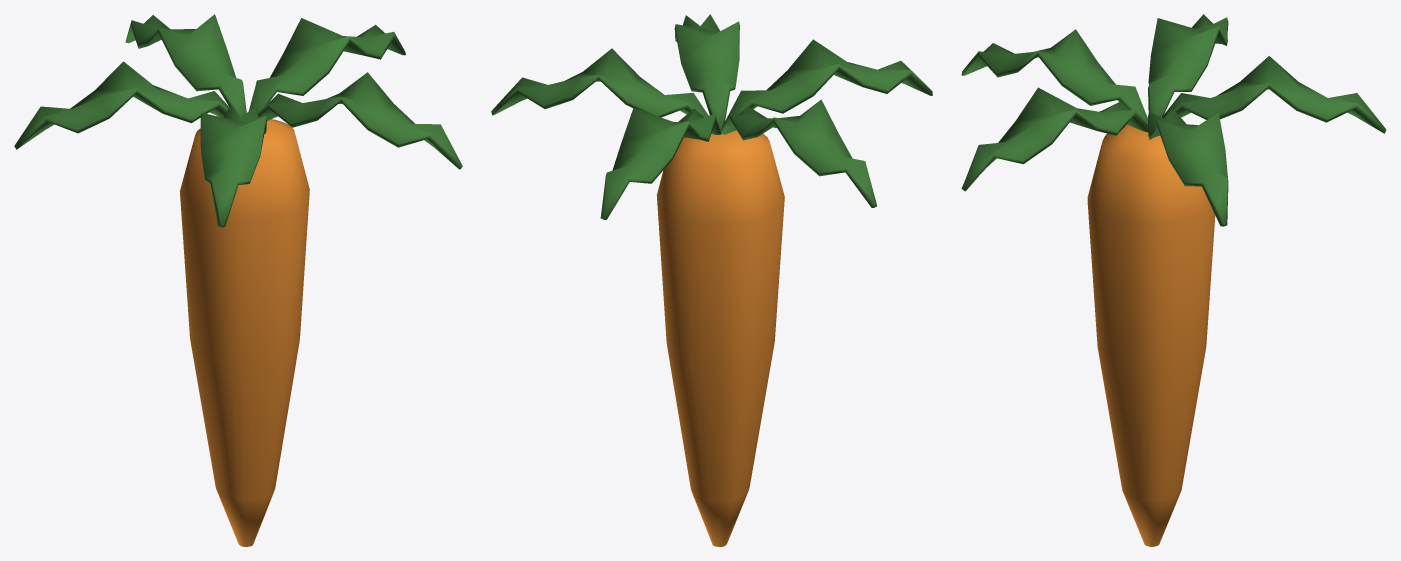
The model's file is carrot.glb.
The picture shows the model from 3 angles, left to right: view 1: azimuth 30°, elevation 25°; view 2: azimuth 150°, elevation 25°; view 3: azimuth 270°, elevation 25°; orthographic projection.
Visible parts, largest first — view 1: edible_carrot, edible_carrot_greens.001, edible_carrot_greens.003, edible_carrot_greens.004, edible_carrot_greens, edible_carrot_greens.002; view 2: edible_carrot, edible_carrot_greens.002, edible_carrot_greens, edible_carrot_greens.001, edible_carrot_greens.004, edible_carrot_greens.003; view 3: edible_carrot, edible_carrot_greens.003, edible_carrot_greens, edible_carrot_greens.002, edible_carrot_greens.004, edible_carrot_greens.001.
Part boxes in pixels (bbox=[...]): edible_carrot: bbox=[180, 119, 309, 546]; edible_carrot_greens.001: bbox=[14, 61, 229, 149]; edible_carrot_greens.003: bbox=[258, 72, 462, 169]; edible_carrot_greens.004: bbox=[249, 18, 405, 113]; edible_carrot_greens: bbox=[125, 14, 246, 117]; edible_carrot_greens.002: bbox=[200, 105, 266, 227]; edible_carrot: bbox=[656, 130, 784, 546]; edible_carrot_greens.002: bbox=[721, 39, 932, 128]; edible_carrot_greens: bbox=[600, 107, 720, 219]; edible_carrot_greens.001: bbox=[720, 99, 876, 207]; edible_carrot_greens.004: bbox=[491, 48, 708, 117]; edible_carrot_greens.003: bbox=[674, 14, 739, 129]; edible_carrot: bbox=[1087, 124, 1215, 546]; edible_carrot_greens.003: bbox=[961, 87, 1148, 191]; edible_carrot_greens: bbox=[1162, 56, 1386, 133]; edible_carrot_greens.002: bbox=[961, 29, 1148, 124]; edible_carrot_greens.004: bbox=[1148, 108, 1228, 226]; edible_carrot_greens.001: bbox=[1148, 14, 1228, 117].
Bounding box in the file's own units: 0.1807 × 0.212 × 0.1721.
